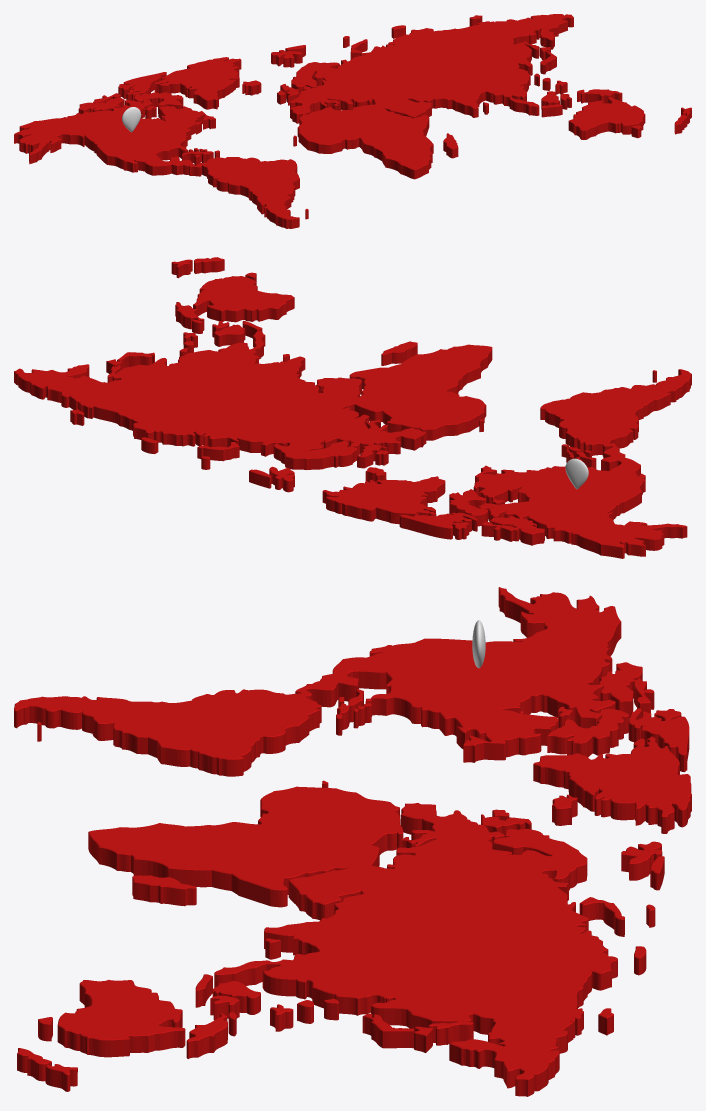
The model's file is mapa.gltf.
The picture shows the model from 3 angles, top to bottom: view 1: azimuth 30°, elevation 25°; view 2: azimuth 150°, elevation 25°; view 3: azimuth 270°, elevation 25°; orthographic projection. The views are drawn at different scales.
Visible parts, largest first — view 1: Shape1, Sphere001; view 2: Shape1, Sphere001; view 3: Shape1.
Boxes of the visible parts, x1,y1,x2,y2 form: Shape1: [14, 14, 691, 228]; Sphere001: [122, 107, 141, 132]; Shape1: [14, 257, 691, 558]; Sphere001: [565, 458, 588, 489]; Shape1: [14, 587, 691, 1096].
Bounding box in the file's own units: 0.314 × 0.0204 × 0.1825.
